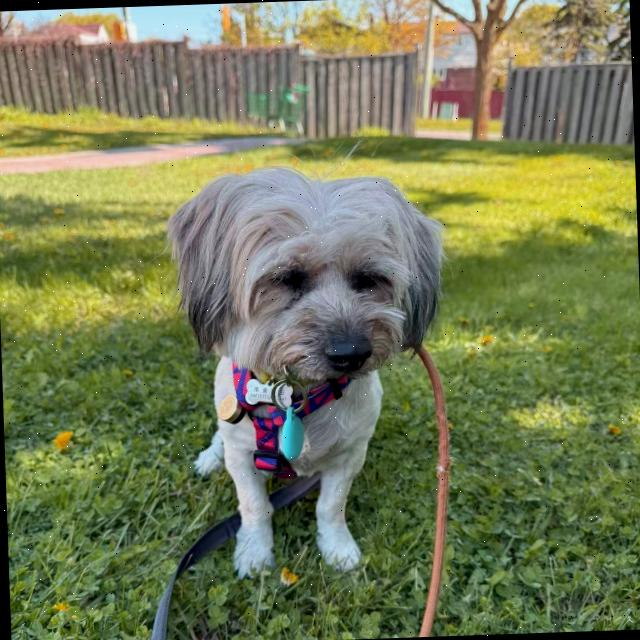Poodle_dog: (157, 161, 460, 409)
